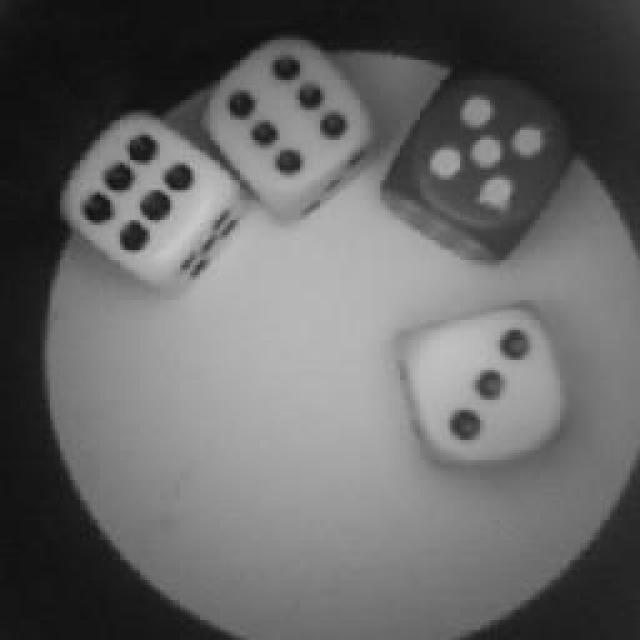dice_3: (402, 302, 572, 470)
dice_5: (413, 72, 575, 250)
dice_6: (65, 120, 235, 282), (218, 48, 368, 202)
